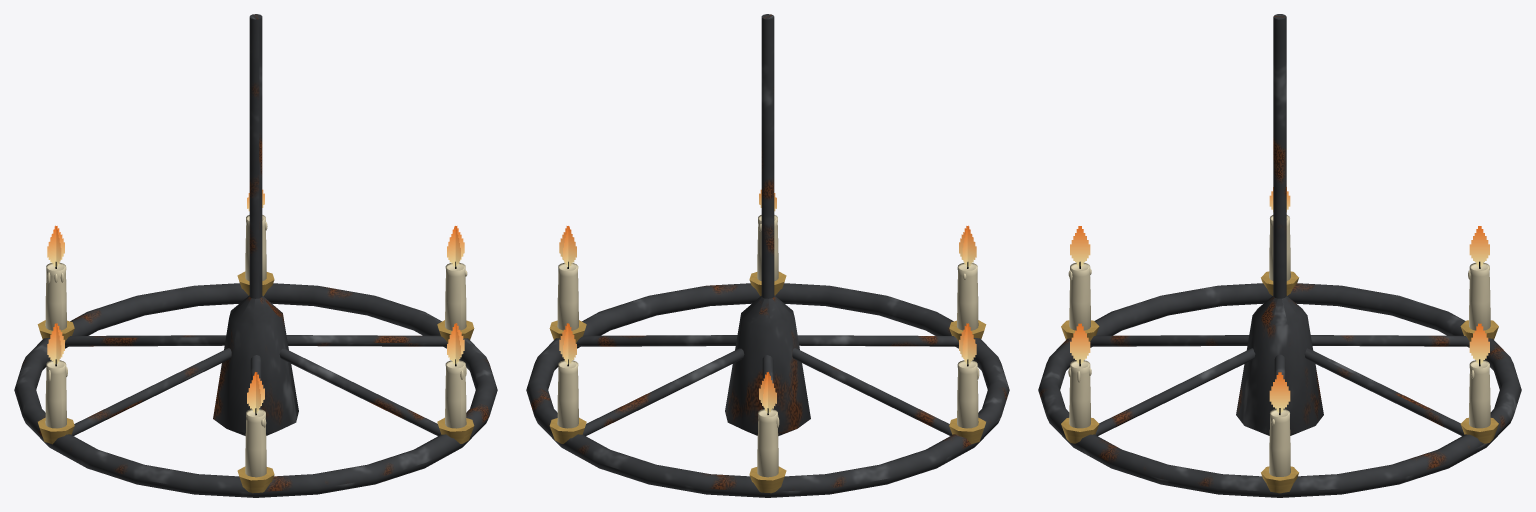
Rendered from chandelier.glb.
3 renders of one model, left to right at view 1: azimuth 30°, elevation 25°; view 2: azimuth 150°, elevation 25°; view 3: azimuth 270°, elevation 25°, orthographic.
Visible parts, largest first — view 1: anim_swing_0; view 2: anim_swing_0; view 3: anim_swing_0.
Part boxes in pixels (bbox=[...]): anim_swing_0: bbox=[14, 14, 497, 497]; anim_swing_0: bbox=[526, 14, 1009, 497]; anim_swing_0: bbox=[1038, 14, 1521, 497].
Bounding box in the file's own units: 0.9101 × 0.8502 × 0.8804.
5 materials, 4 textured.
